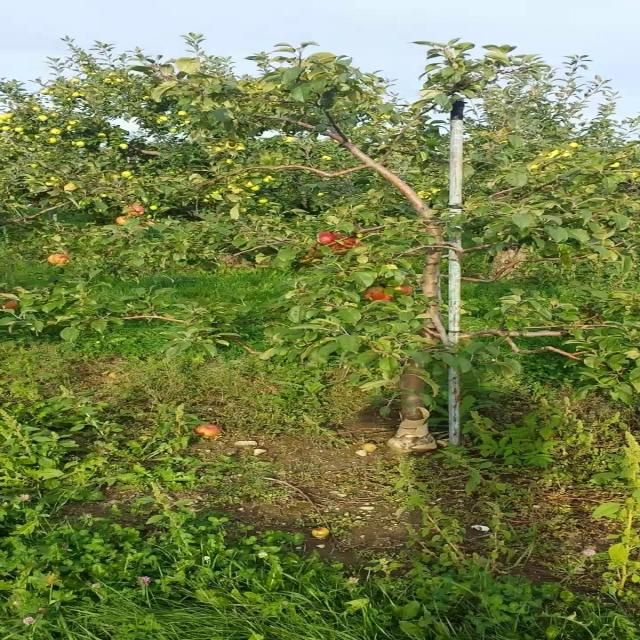apple: (369, 288, 391, 301), (333, 240, 356, 252), (319, 232, 341, 244), (49, 256, 71, 264), (333, 244, 350, 254), (340, 240, 361, 248), (6, 300, 21, 311), (127, 208, 146, 216), (397, 288, 412, 296), (120, 216, 130, 224)
